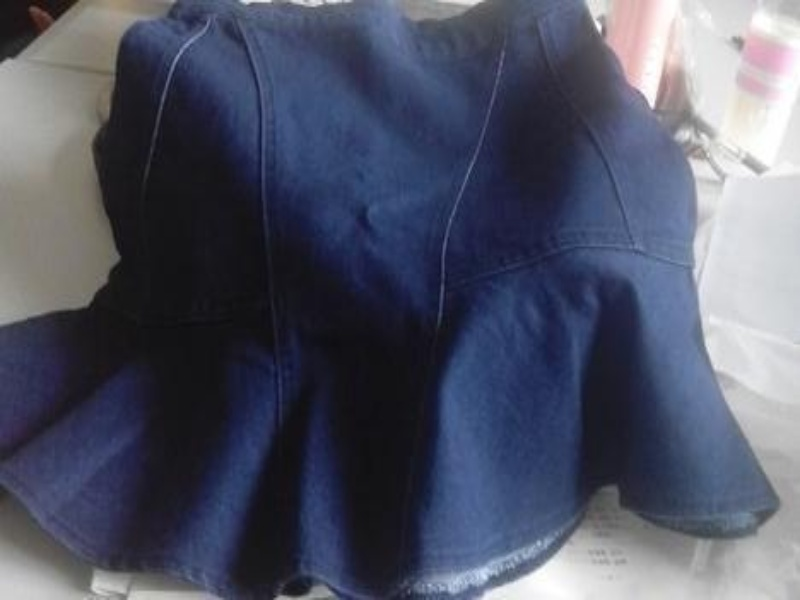skirt: (2, 0, 783, 598)
